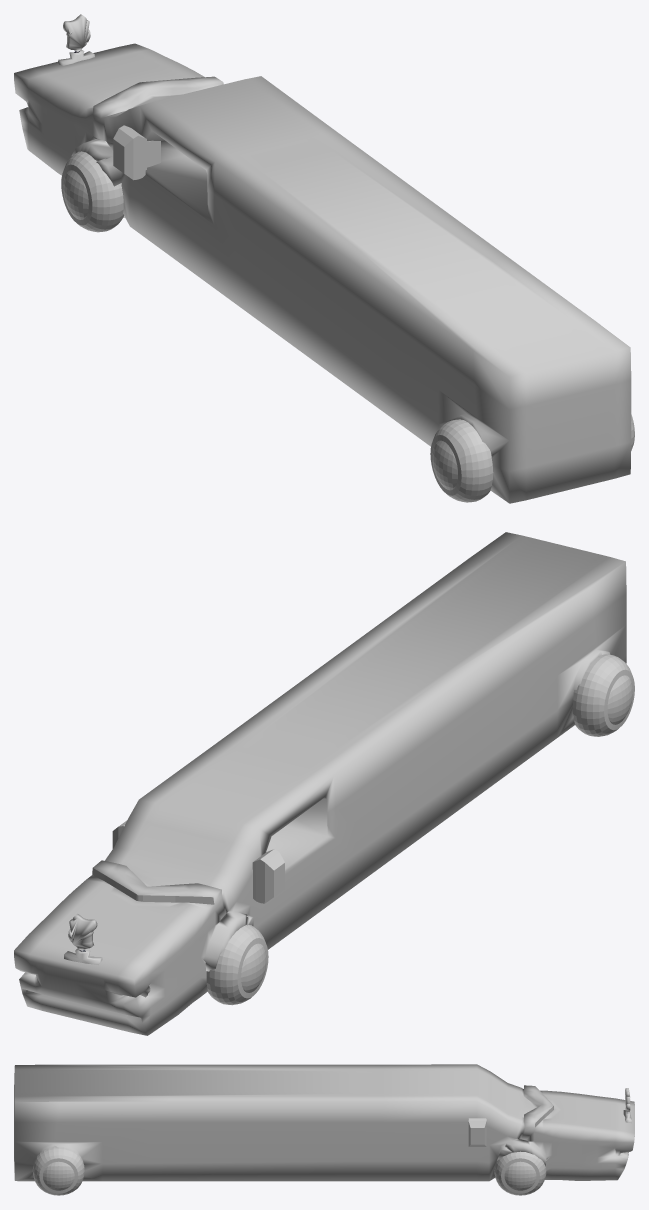
The model's file is Main_Limo.fbx.
3 renders of one model, top to bottom at view 1: azimuth 30°, elevation 25°; view 2: azimuth 150°, elevation 25°; view 3: azimuth 270°, elevation 25°, orthographic. The views are drawn at different scales.
Parts seen in each view (by area): view 1: Cube.001; view 2: Cube.001; view 3: Cube.001.
Boxes of the visible parts, bbox=[...] form: Cube.001: bbox=[14, 14, 634, 503]; Cube.001: bbox=[14, 532, 634, 1035]; Cube.001: bbox=[14, 1064, 634, 1195].
Bounding box in the file's own units: 504 × 376 × 2312.
